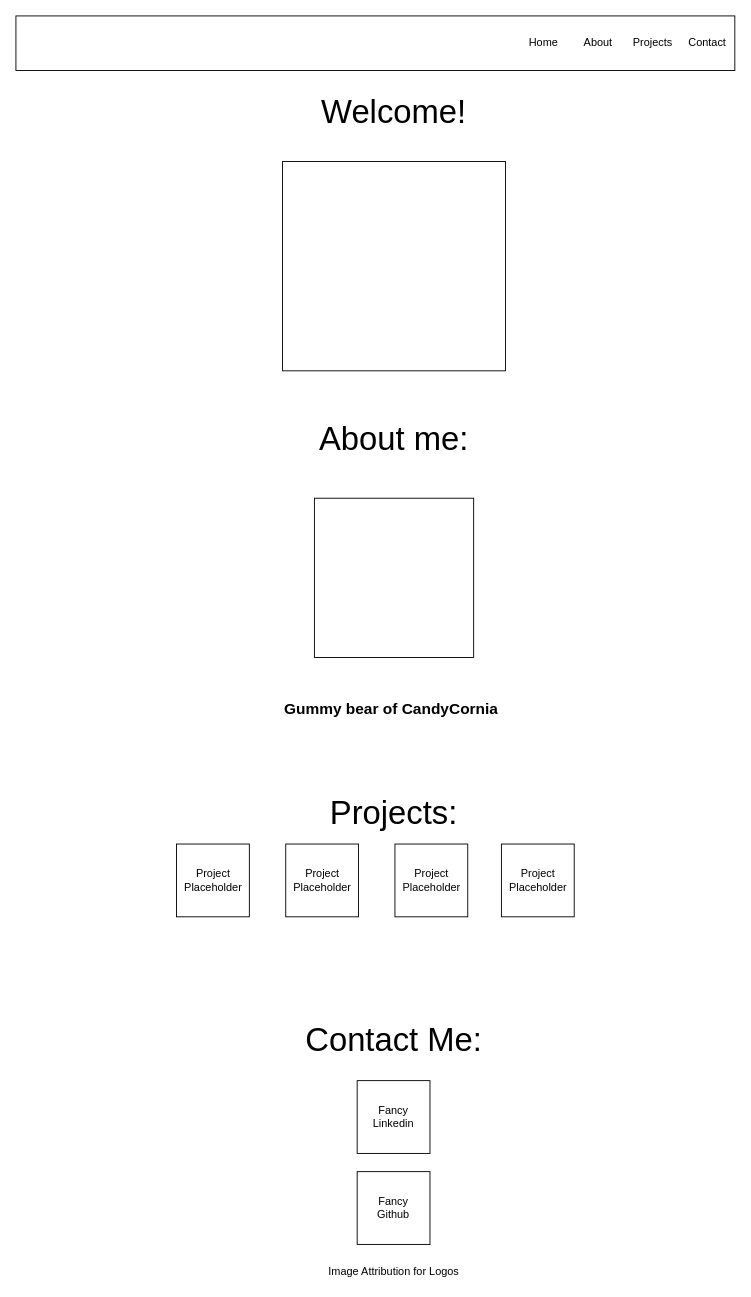
This 751x1297 diagram has some shape labels left out. The shapes that lost their labels are listed below. From the top down, each one's box as (x1, y1, x2, y2) in pixels, then its label:
(15, 15, 735, 71): Matt Keplinger
(282, 161, 506, 371): Welcome Blurb and High Quality Images
(313, 497, 474, 657): Picture of Me
